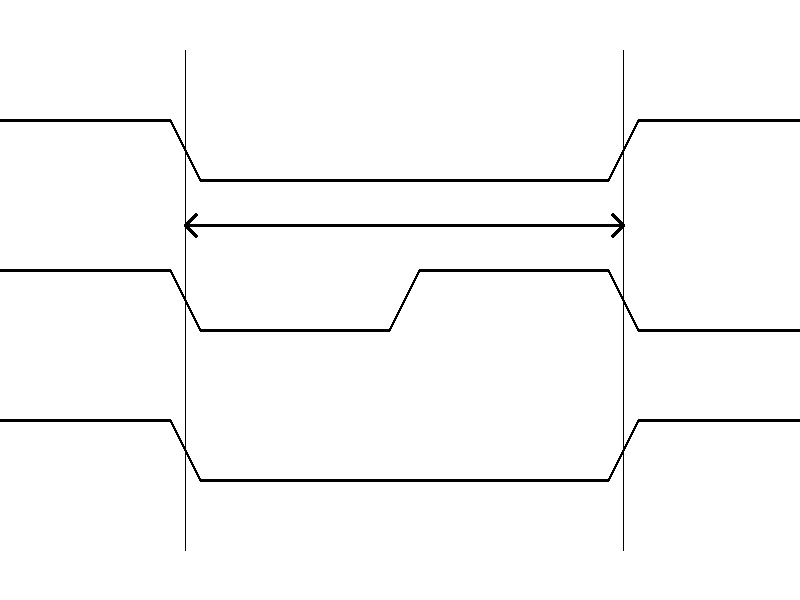double_arrow: (185, 210, 623, 240)
